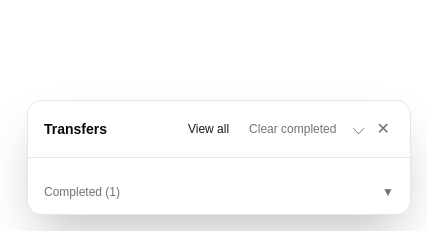
Test: TransferManager — completed section › shows completed rows when section is expanded
Click the button "Completed (1) ▼": (82, 192) [40,182,398,202]
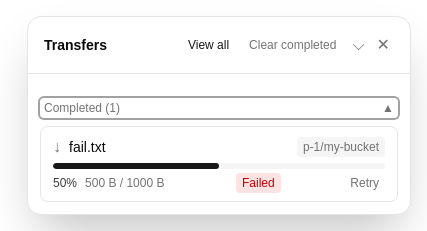
Expected: the text titled "fail.txt" is shown, [69,139,106,155]
